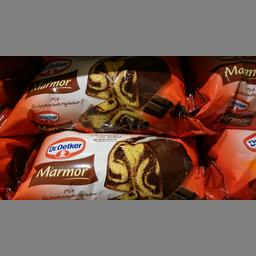cake: (2, 58, 196, 128), (12, 132, 206, 198)
